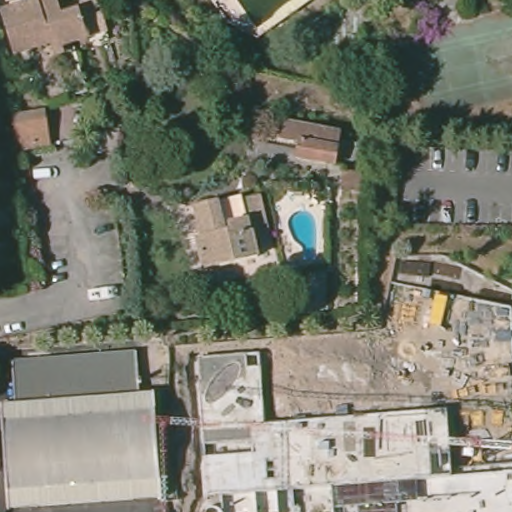pool: (286, 207, 320, 260), (236, 1, 297, 30)
